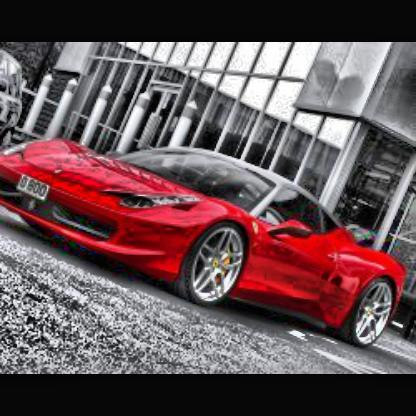Ferrari 458 Italia Coupe 2012: (2, 137, 406, 353)
